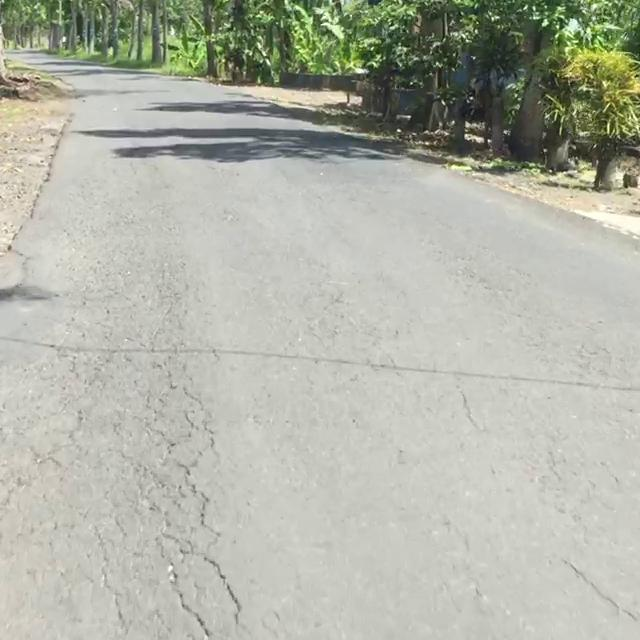retak_kulit_buaya: (37, 244, 268, 640)
retak_memanjang: (541, 561, 640, 640)
